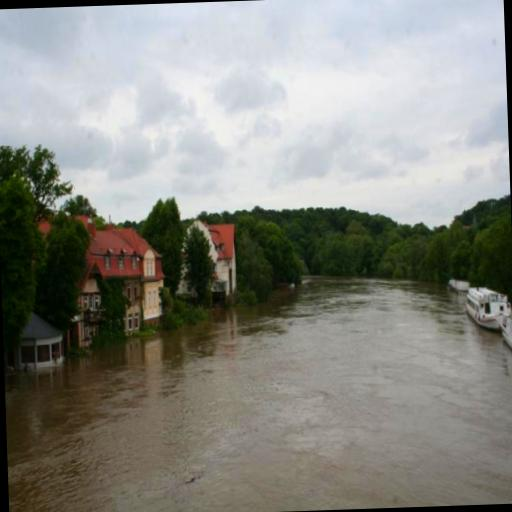flood: (4, 277, 512, 512)
house: (89, 220, 168, 342), (174, 220, 239, 298), (18, 311, 66, 375)
